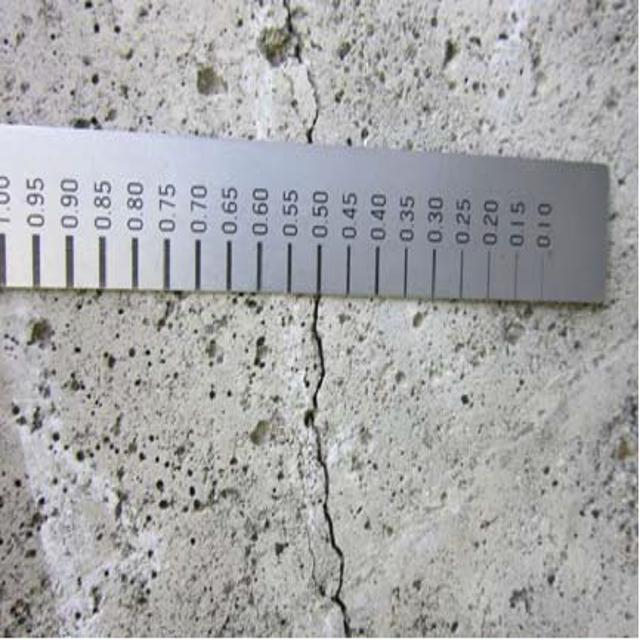crack: (293, 304, 367, 637), (267, 10, 334, 146)
